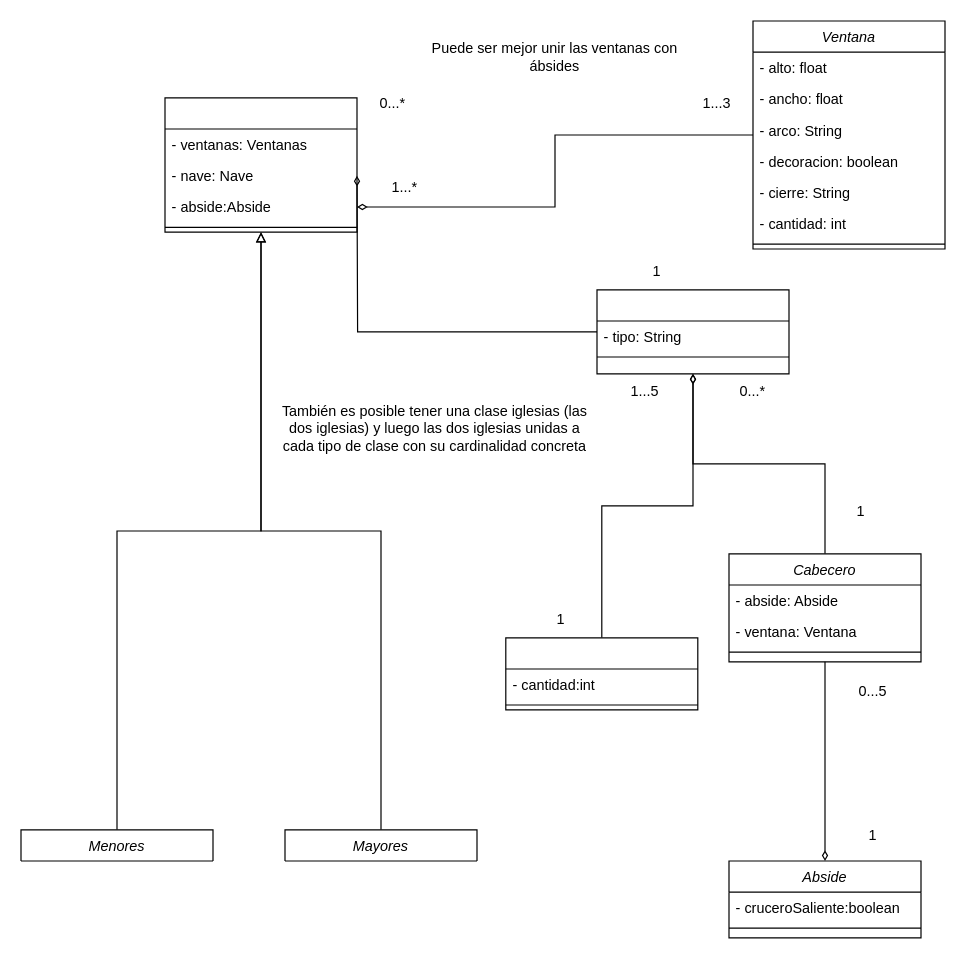
This 966x959 diagram has some shape labels left out. Here are the shapes that lost their labels. From the top down, the box of each, then its label:
(164, 97, 357, 232): Iglesia (románica)
(596, 289, 789, 374): Planta
(505, 637, 698, 710): Nave
